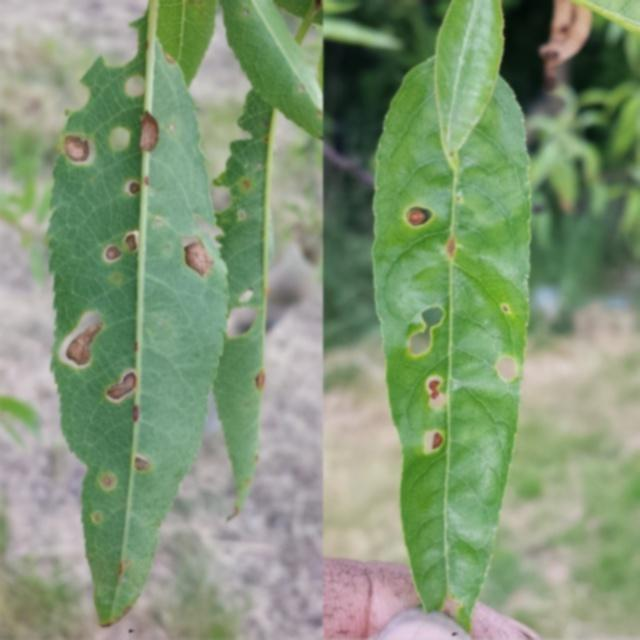leaf_spot: (41, 34, 232, 640), (371, 16, 538, 622)
